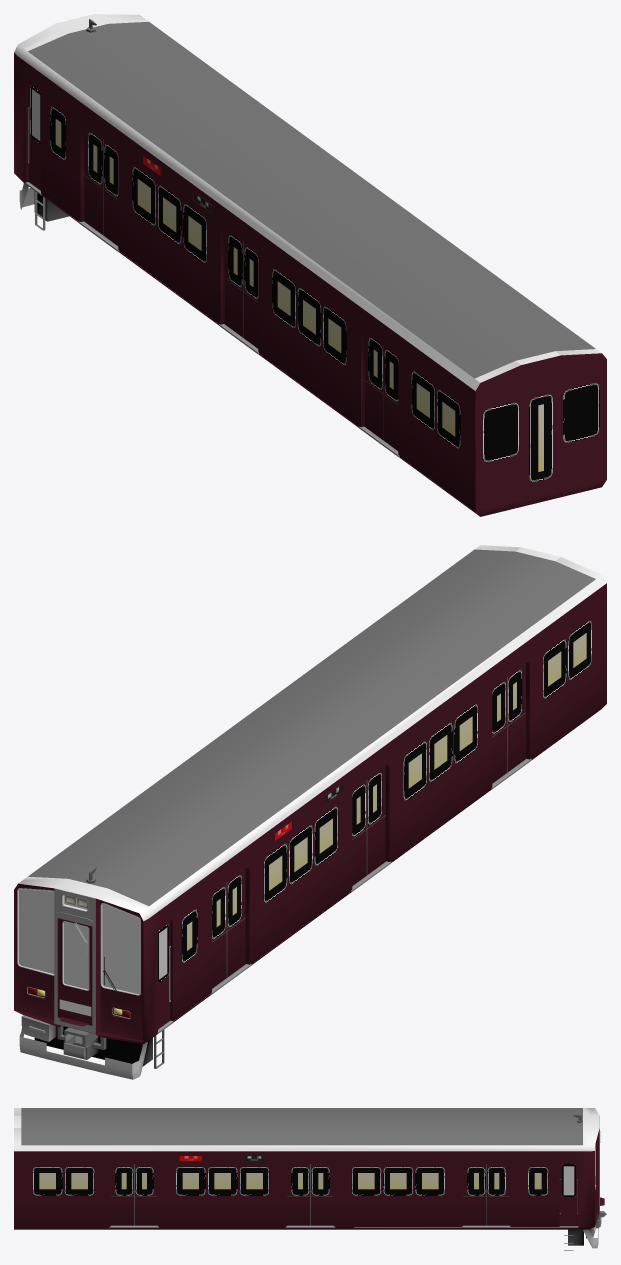
3 renders of one model, top to bottom at view 1: azimuth 30°, elevation 25°; view 2: azimuth 150°, elevation 25°; view 3: azimuth 270°, elevation 25°, orthographic. The views are drawn at different scales.
Visible parts, largest first — view 1: in_light; view 2: in_light; view 3: in_light.
Part boxes in pixels (left/top/right/bottom): in_light: left=14, top=14, right=606, bottom=516; in_light: left=14, top=545, right=606, bottom=1079; in_light: left=14, top=1108, right=606, bottom=1250.
Size of the model in its own units: 6.3 by 8.44 by 38.73.
Materials: 15 (12 with a texture image).
